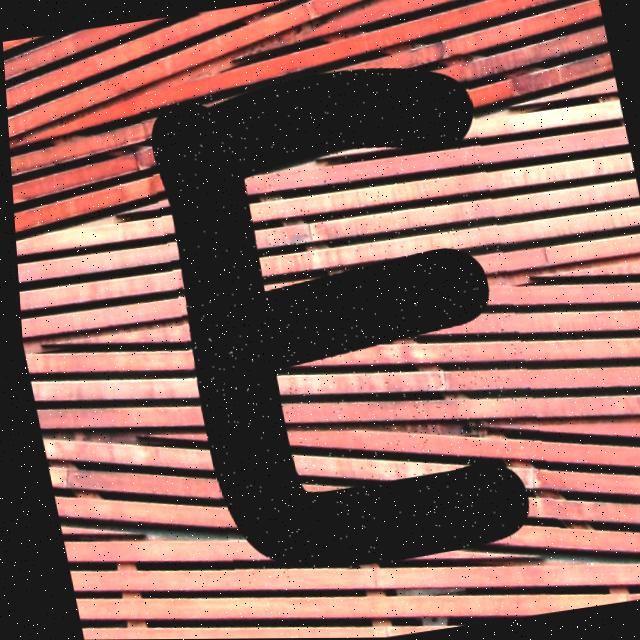E: (151, 69, 523, 568)
